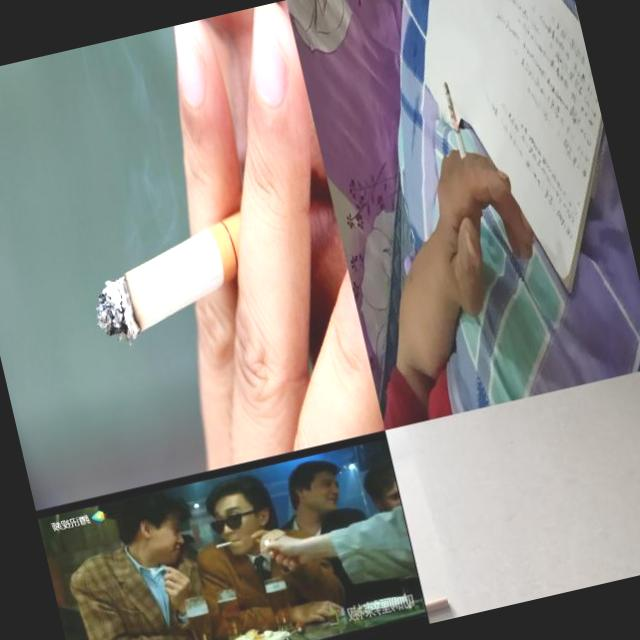smoke: (73, 175, 322, 352), (441, 76, 484, 220), (424, 595, 451, 618), (214, 540, 233, 550)
